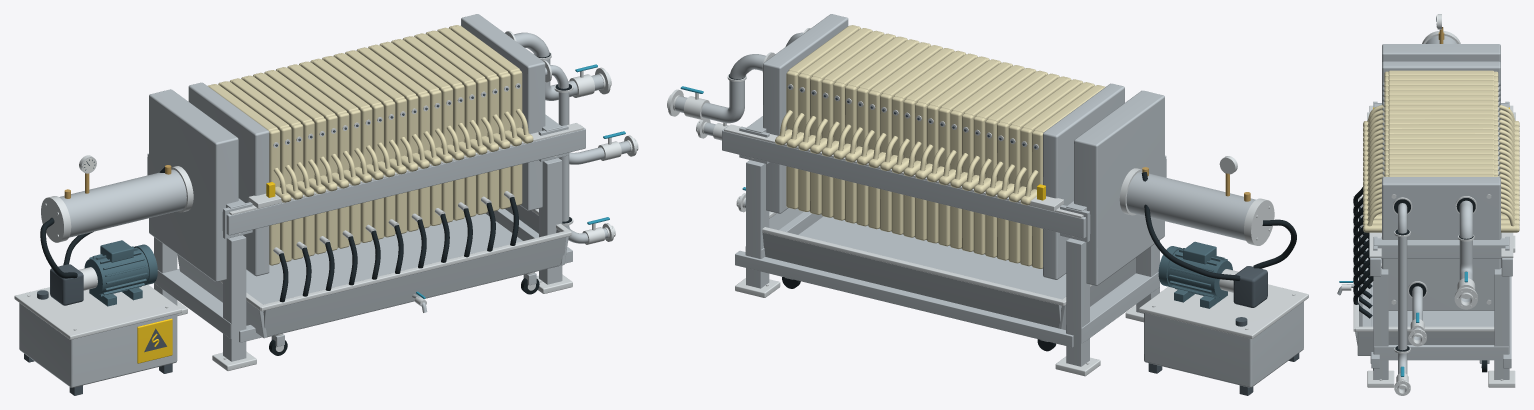
File: plate-frame-filter-press.glb
The picture shows the model from 3 angles, left to right: view 1: azimuth 30°, elevation 25°; view 2: azimuth 150°, elevation 25°; view 3: azimuth 270°, elevation 25°; orthographic projection. The views are drawn at different scales.
Visible parts, largest first — view 1: Hydraulic reaction head, Tray sloped long side, Tray bottom, Plate support beam, Hydraulic reservoir, Hydraulic cylinder barrel, Moving compression platen, Reservoir lid, Fixed head, Frame leg, Tray folded lip, End cross member (+57 smaller); view 2: Hydraulic reaction head, Hydraulic reservoir, Plate support beam.001, Tray sloped long side.001, Tray bottom, Lower tie beam.001, Hydraulic cylinder barrel, Moving compression platen, Reservoir lid, Fixed head, Frame leg.001, Frame leg.003 (+57 smaller); view 3: Fixed head, Hydraulic reaction head, End cross member.003, End cross member.002, Tray bottom, Low drain riser, Tray end wall.001, Frame leg.002, Frame leg.003, Moving compression platen, Mash feed main, Plate rim.003 (+40 smaller).
Boxes of the visible parts, x1,y1,x2,y2 form: Hydraulic reaction head: [149, 89, 238, 281]; Tray sloped long side: [263, 237, 566, 336]; Tray bottom: [246, 213, 559, 337]; Plate support beam: [222, 125, 585, 235]; Hydraulic reservoir: [19, 303, 177, 387]; Hydraulic cylinder barrel: [59, 169, 186, 237]; Moving compression platen: [188, 82, 269, 276]; Reservoir lid: [14, 284, 181, 339]; Fixed head: [461, 14, 545, 210]; Frame leg: [223, 235, 246, 361]; Tray folded lip: [260, 230, 571, 311]; End cross member: [154, 269, 231, 338]; Hydraulic reaction head: [1074, 90, 1164, 285]; Hydraulic reservoir: [1144, 301, 1303, 387]; Plate support beam.001: [722, 126, 1090, 238]; Tray sloped long side.001: [762, 233, 1061, 327]; Tray bottom: [798, 216, 1066, 307]; Lower tie beam.001: [735, 250, 1073, 347]; Hydraulic cylinder barrel: [1126, 171, 1255, 240]; Moving compression platen: [1043, 83, 1124, 279]; Reservoir lid: [1139, 284, 1308, 338]; Fixed head: [763, 14, 848, 213]; Frame leg.001: [1066, 238, 1089, 366]; Frame leg.003: [746, 160, 769, 288]; Fixed head: [1382, 177, 1500, 310]; Hydraulic reaction head: [1382, 44, 1500, 62]; End cross member.003: [1374, 238, 1508, 258]; End cross member.002: [1374, 345, 1508, 360]; Tray bottom: [1362, 233, 1494, 326]; Low drain riser: [1398, 203, 1407, 390]; Tray end wall.001: [1357, 332, 1494, 355]; Frame leg.002: [1373, 268, 1388, 379]; Frame leg.003: [1494, 268, 1509, 379]; Moving compression platen: [1382, 61, 1500, 119]; Mash feed main: [1459, 200, 1472, 302]; Plate rim.003: [1388, 75, 1493, 80].
Bounding box in the file's own units: 5.53 × 2 × 1.69.
